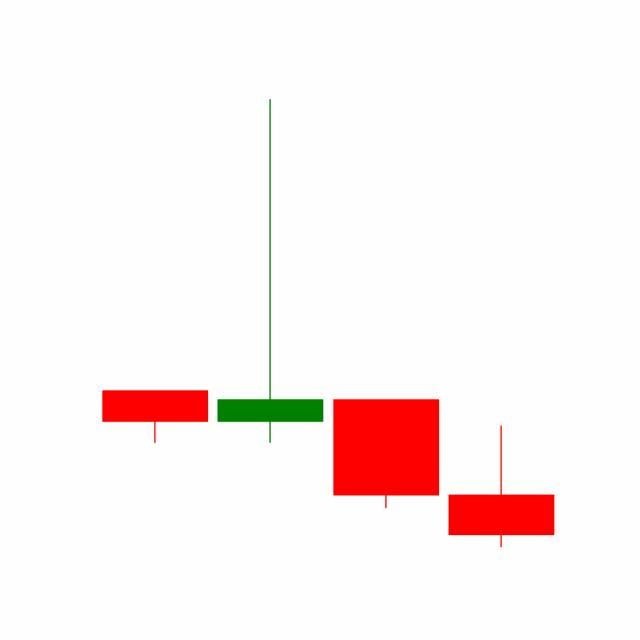Marubozu: (329, 399, 445, 511)
